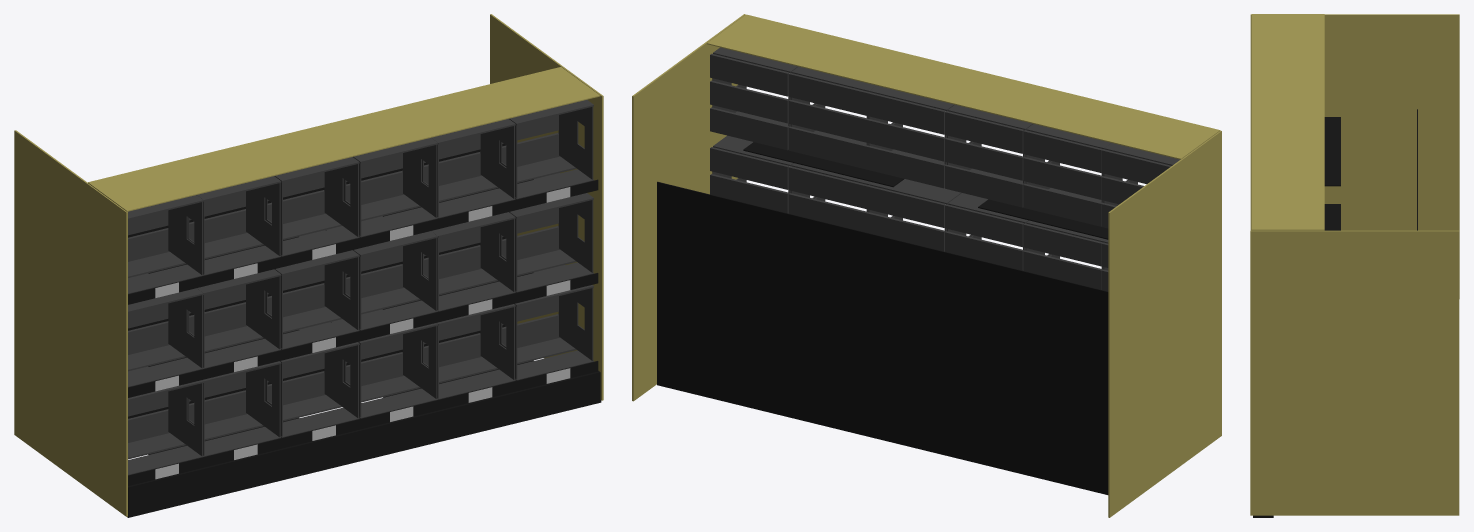
The model's file is fruit_box_2.fbx.
3 views of the same model, side by side, from view 1: azimuth 30°, elevation 25°; view 2: azimuth 150°, elevation 25°; view 3: azimuth 270°, elevation 25° (orthographic). The views are drawn at different scales.
Parts seen in each view (by area): view 1: Stand_structure.001, Cube.008, Cube.005, Cube.009, Cube.006, Cube.010, Cube.007; view 2: Stand_structure.001, Cube.005, Cube.008, Cube.006; view 3: Stand_structure.001, Cube.006, Cube.007.
Boxes of the visible parts, bbox=[...] form: Stand_structure.001: bbox=[14, 14, 603, 517]; Cube.008: bbox=[128, 173, 593, 387]; Cube.005: bbox=[128, 100, 593, 293]; Cube.009: bbox=[128, 265, 593, 475]; Cube.006: bbox=[128, 179, 598, 304]; Cube.010: bbox=[128, 360, 598, 485]; Cube.007: bbox=[128, 272, 598, 397]; Stand_structure.001: bbox=[632, 14, 1221, 517]; Cube.005: bbox=[710, 47, 1179, 228]; Cube.008: bbox=[710, 135, 1108, 291]; Cube.006: bbox=[743, 142, 1108, 239]; Stand_structure.001: bbox=[1250, 14, 1459, 517]; Cube.006: bbox=[1324, 117, 1340, 230]; Cube.007: bbox=[1324, 204, 1340, 223].
Bounding box in the file's own units: 4919 × 3036 × 2002.
